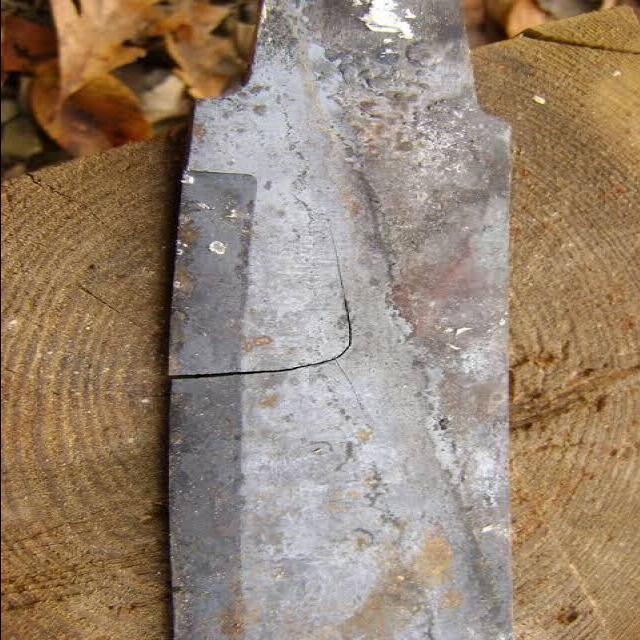defect: (170, 226, 356, 381)
